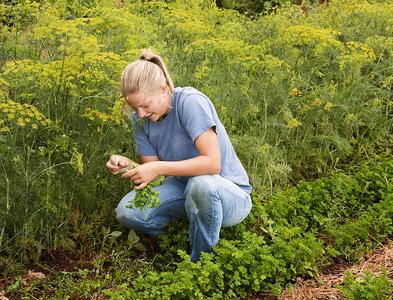person: (106, 53, 255, 262)
